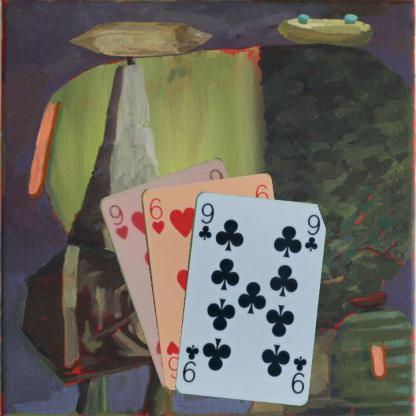6h: (146, 195, 166, 236)
9c: (195, 199, 215, 242), (288, 353, 308, 395)
9h: (105, 202, 130, 242)
